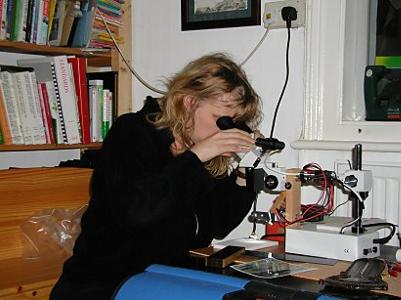person: (49, 55, 266, 300)
